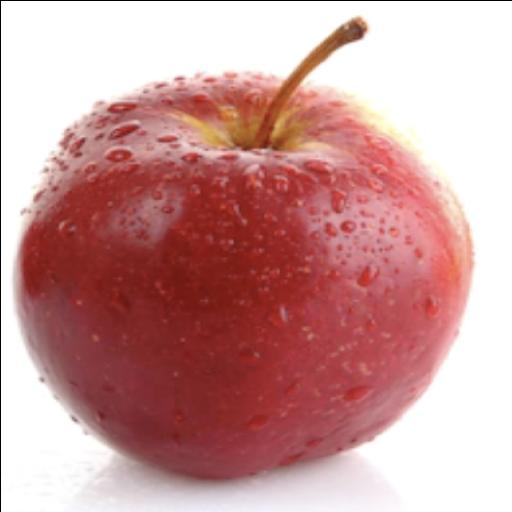apple: (14, 19, 471, 478)
